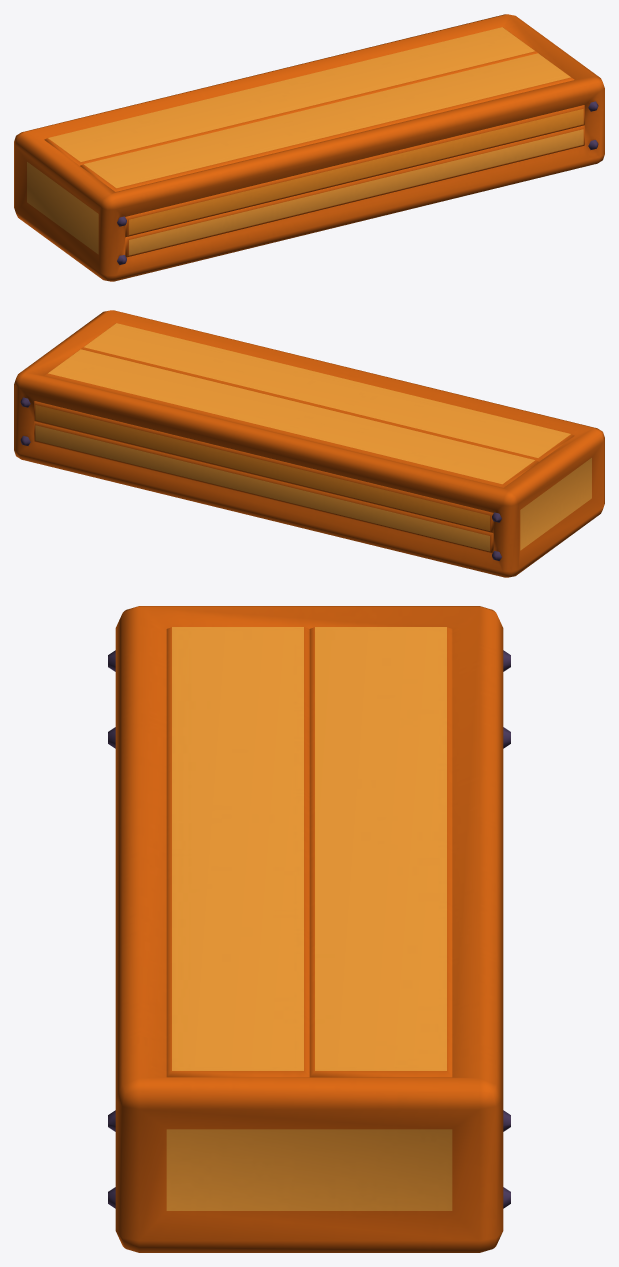
File: kalas3.glb
3 renders of one model, top to bottom at view 1: azimuth 30°, elevation 25°; view 2: azimuth 150°, elevation 25°; view 3: azimuth 270°, elevation 25°, orthographic. The views are drawn at different scales.
Visible parts, largest first — view 1: kalas3; view 2: kalas3; view 3: kalas3.
Boxes of the visible parts, left/top/right/bottom form: kalas3: left=14, top=14, right=604, bottom=281; kalas3: left=14, top=310, right=604, bottom=577; kalas3: left=108, top=606, right=510, bottom=1252.
Bounding box in the file's own units: 4.6 × 0.7595 × 1.6.
Materials: 1 (1 with a texture image).
